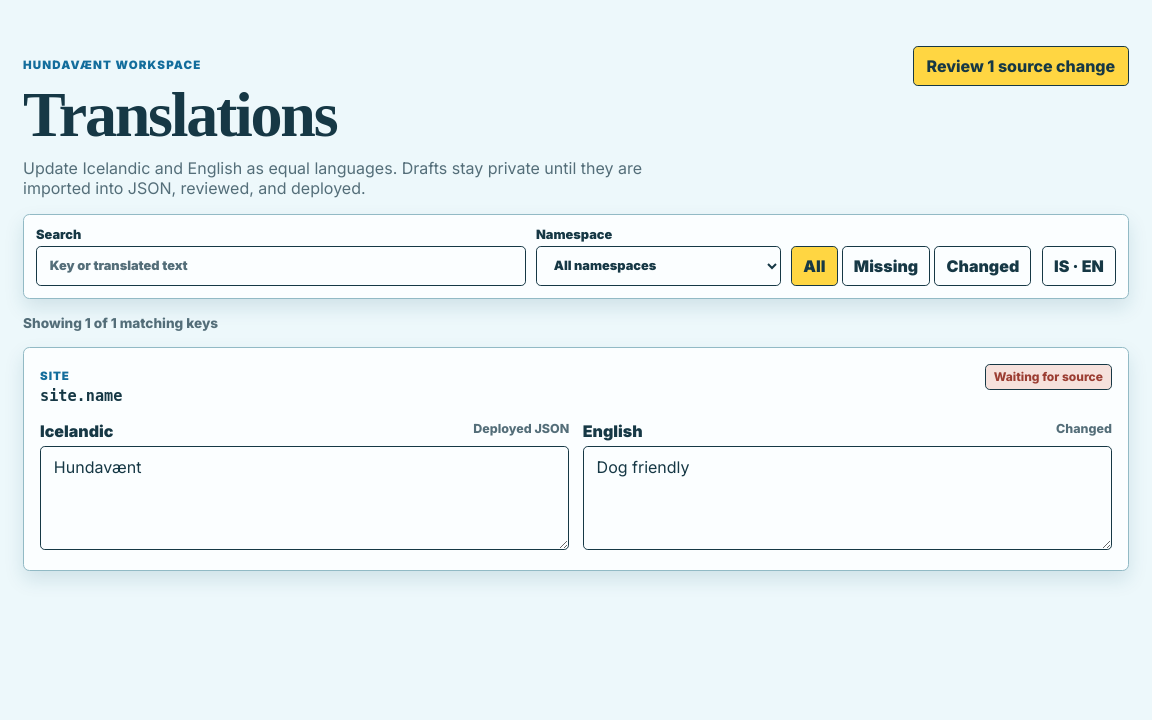
Translation workspace › can accept the latest value without overwriting it
The width and height of the screenshot is (1152, 720).
Replace the text in the text box named "English translation for site.name" with "My local edit" at {"x": 847, "y": 498}, box [583, 446, 1112, 550]
Wait 700 ms
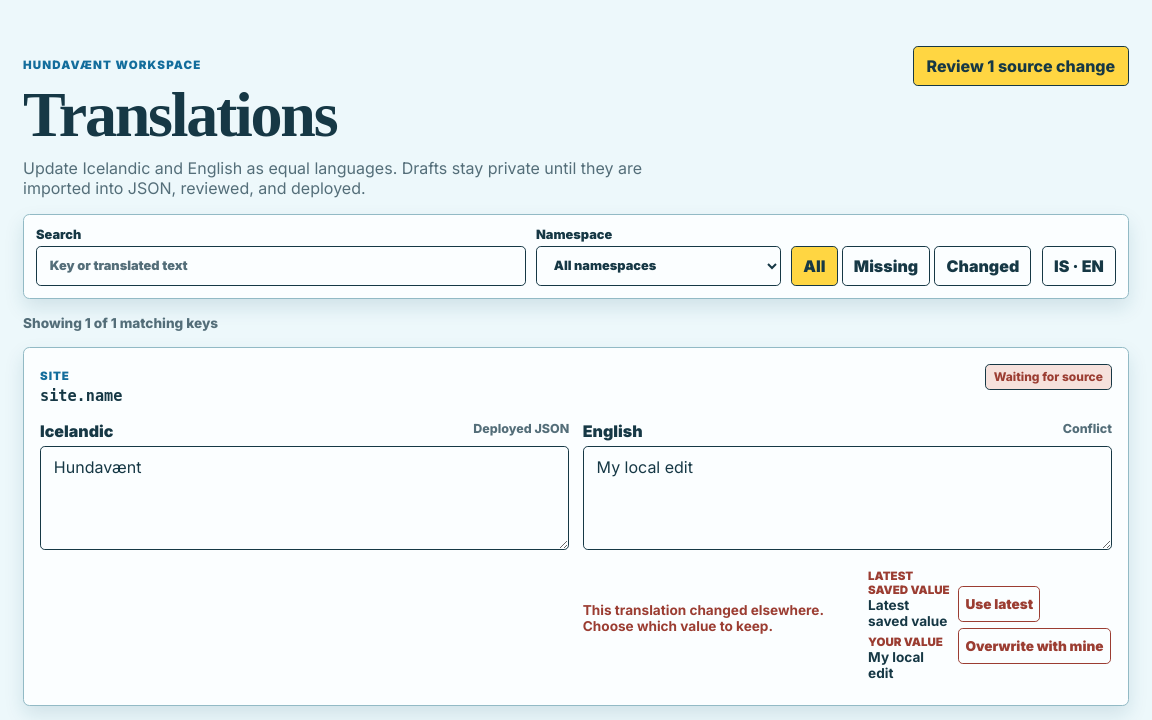
Check: the button "Use latest" is shown
Click the button "Use latest" at {"x": 999, "y": 604}, box [958, 586, 1040, 622]
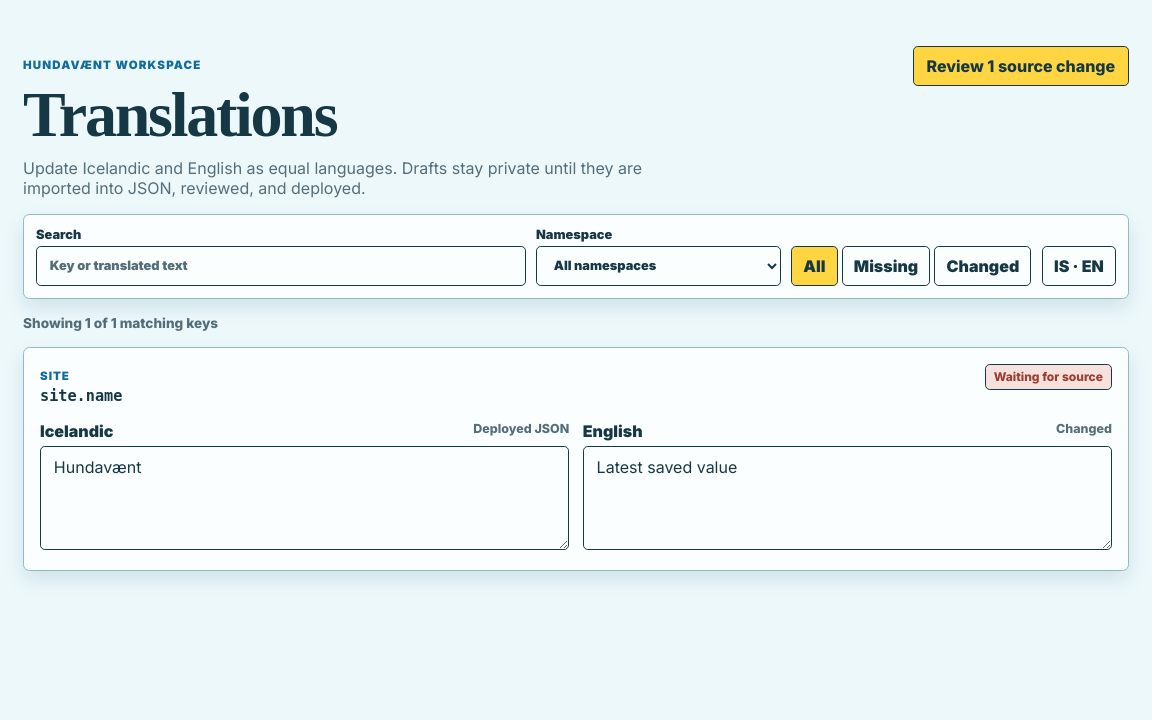
Check: the text box named "English translation for site.name" holds "Latest saved value", box [583, 446, 1112, 550]
